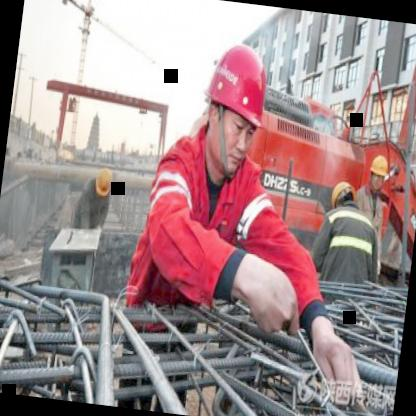helmet: (188, 26, 279, 186), (326, 174, 358, 212), (366, 152, 390, 192), (92, 164, 114, 198)
